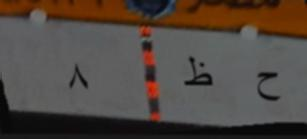7aa: (250, 66, 289, 108)
8: (59, 57, 97, 94)
Thaa: (181, 53, 219, 97)
